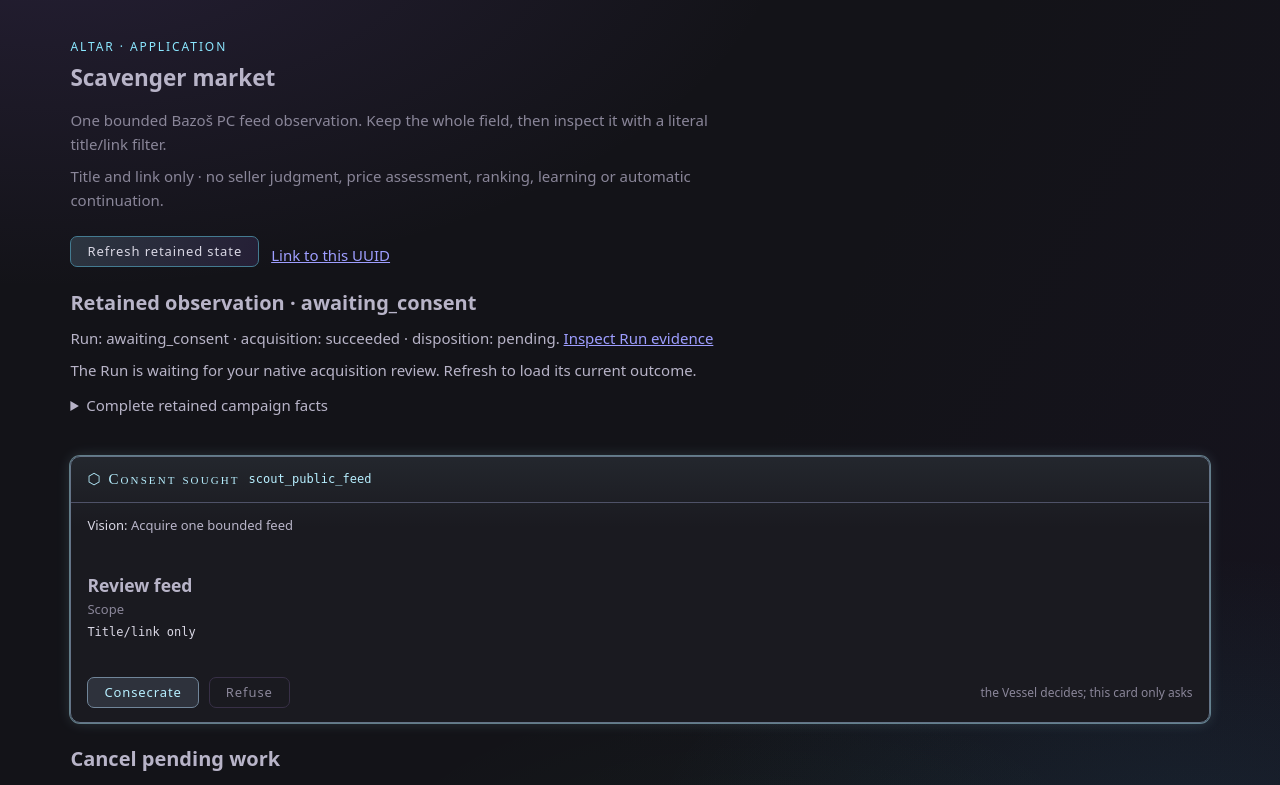
Test: uses the existing native review card and exact Core review-binding verdict before refreshing authoritative state
The width and height of the screenshot is (1280, 785).
Expected: the text "Title/link only" is shown, [87,625,196,639]
Click the button "Consecrate": coordinates (143, 693) [87,677,199,708]
(page scrolled)
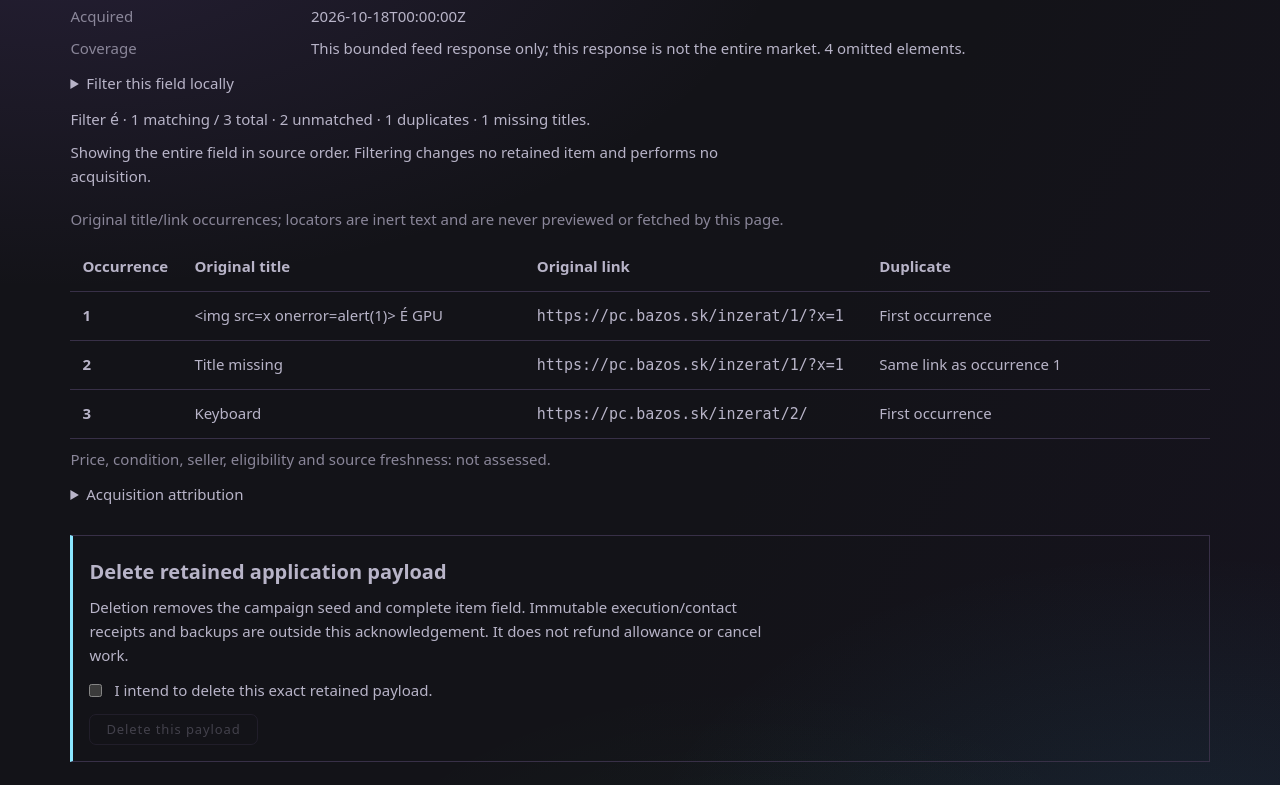
Now the text "Keyboard" is shown, box [182,390,525,439]
